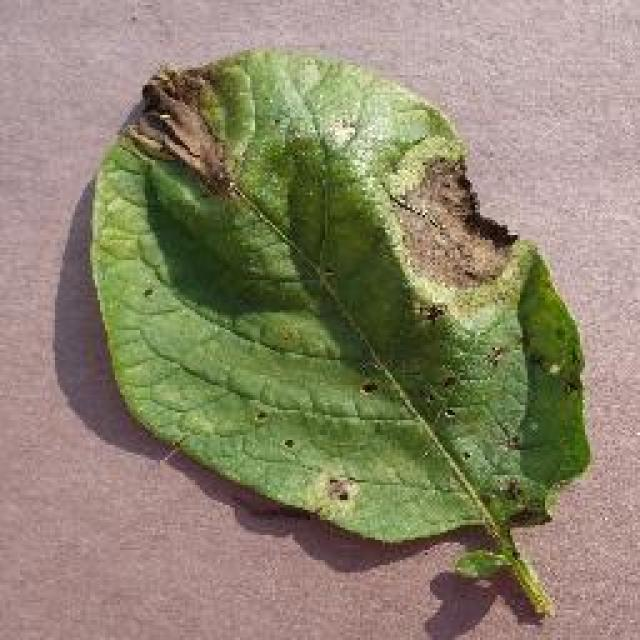Potato: (85, 42, 593, 618)
